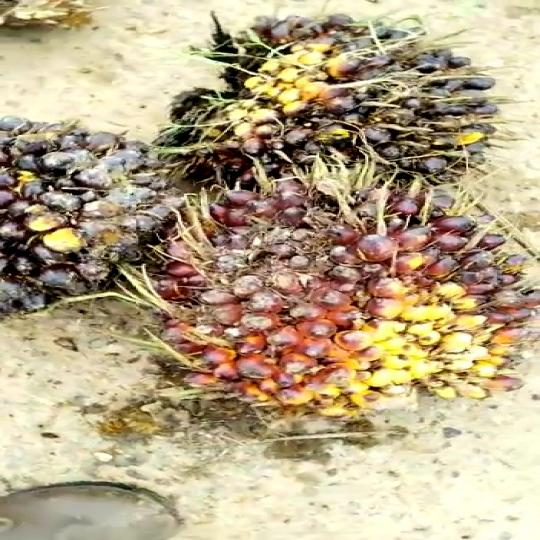kurang masak: (156, 169, 529, 441), (155, 11, 483, 210), (0, 105, 189, 319)
